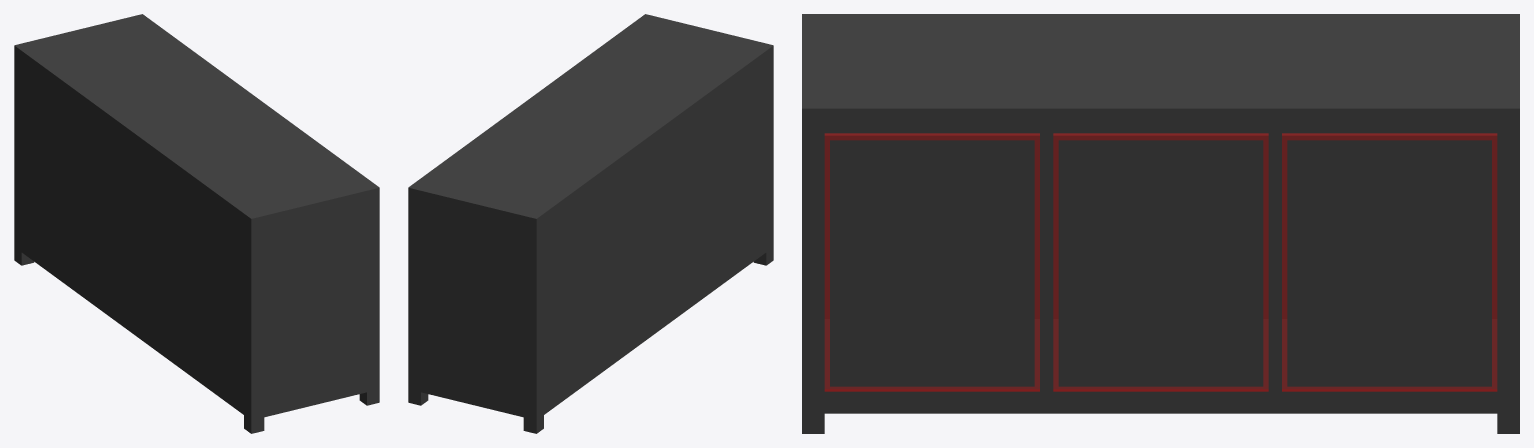
Rendered from mueble1.obj.
3 renders of one model, left to right at view 1: azimuth 30°, elevation 25°; view 2: azimuth 150°, elevation 25°; view 3: azimuth 270°, elevation 25°, orthographic. The views are drawn at different scales.
Visible parts, largest first — view 1: Sólido1; view 2: Sólido1; view 3: Sólido1.
Part boxes in pixels (bbox=[...]): Sólido1: bbox=[14, 14, 379, 433]; Sólido1: bbox=[408, 14, 773, 433]; Sólido1: bbox=[802, 14, 1519, 433].
Bounding box in the file's own units: 512 × 800 × 1600.
